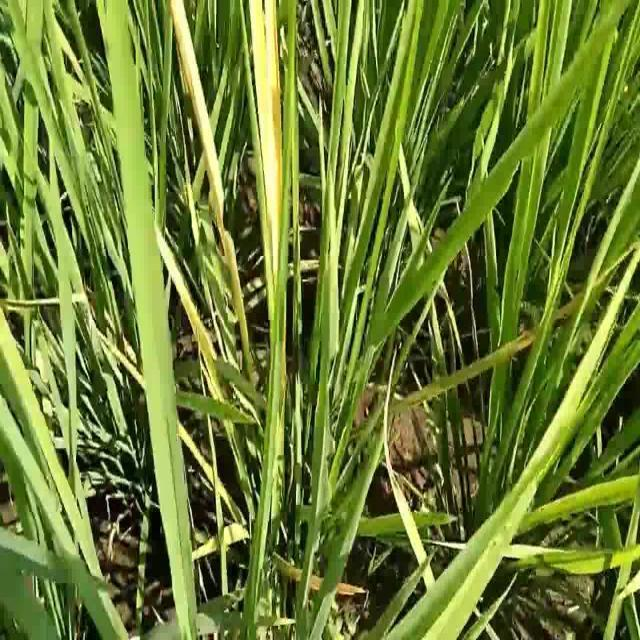Rice Tungro: (165, 1, 255, 359), (142, 212, 220, 374), (251, 1, 285, 292)
